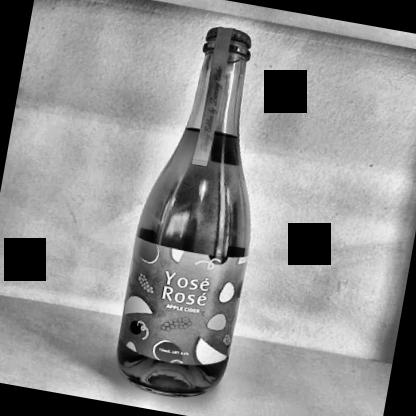yoserose: (122, 248, 242, 366)
